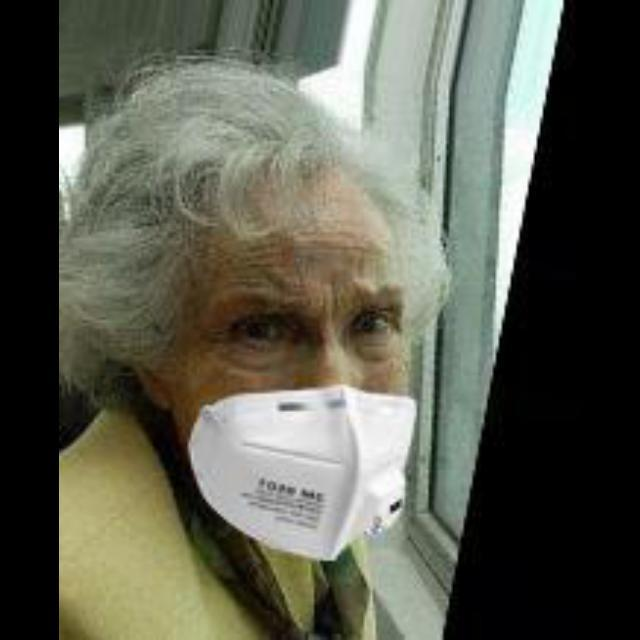suspicion: (81, 100, 447, 560)
